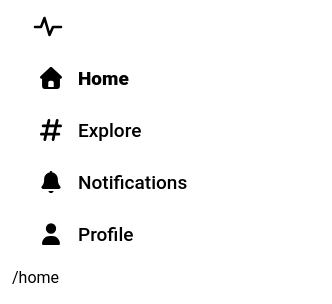
Test: NavRail — navigation and current page › a plain click navigates in the adapter
What coordinates should you click on to do the following:
click the link with aria-label "Notifications, 1 unread"
I would click on:
 (114, 178)
Its box is [40,162,187,194].
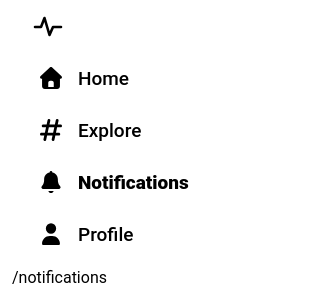
Result: the text with test id "where" reads "/notifications" at [12,268,107,287]
